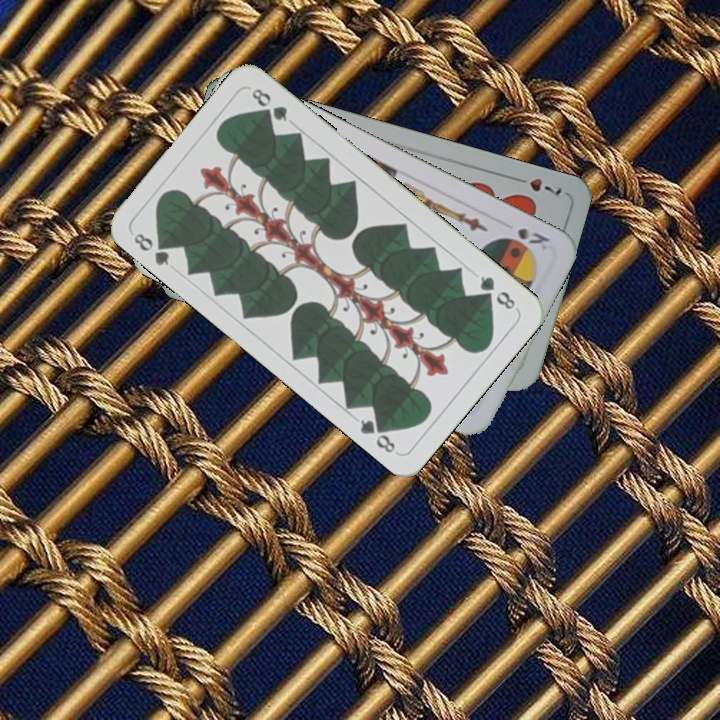G8: (475, 272, 519, 313), (129, 229, 174, 269)
H7: (508, 173, 565, 198)
SK: (513, 224, 553, 255)
